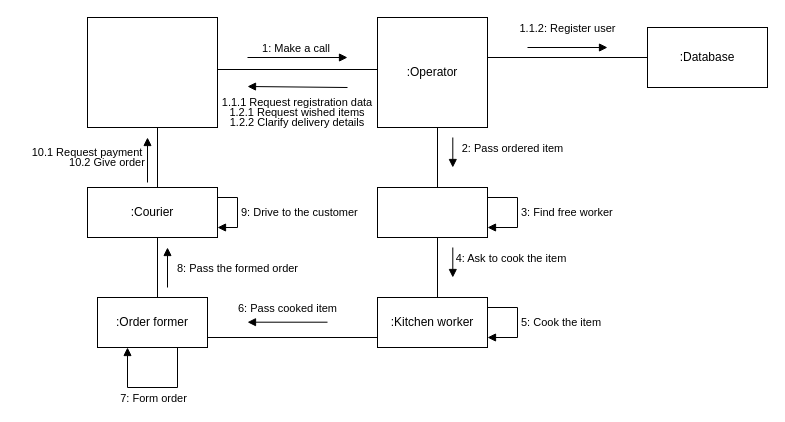
This 785x422 diagram has some shape labels left out. Each missing label, with the centre of its shape:
":Customer" goes at pixel 152 72.
":Kitchen" goes at pixel 432 212.
